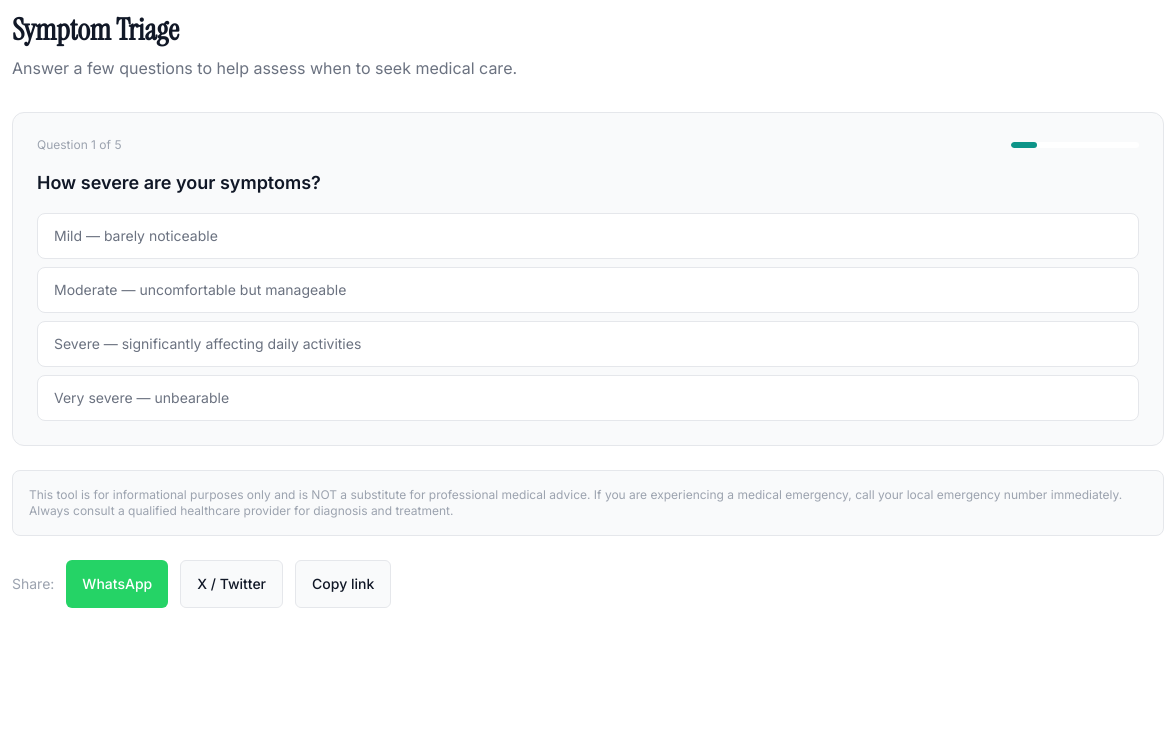
Test case: SymptomTriage › advances through questions
Click the button "Mild — barely noticeable" at (136, 236), box [37,213,1139,259]
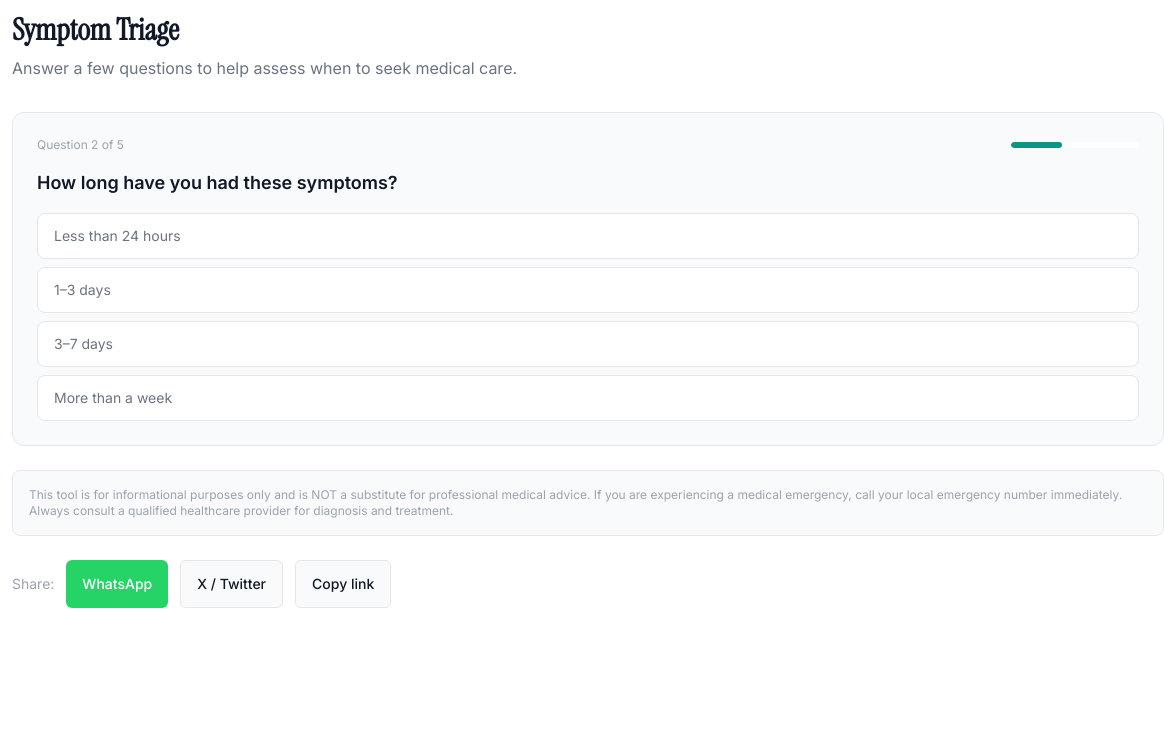
Expected: the text "Question 2 of 5" is shown, [37,137,124,153]
